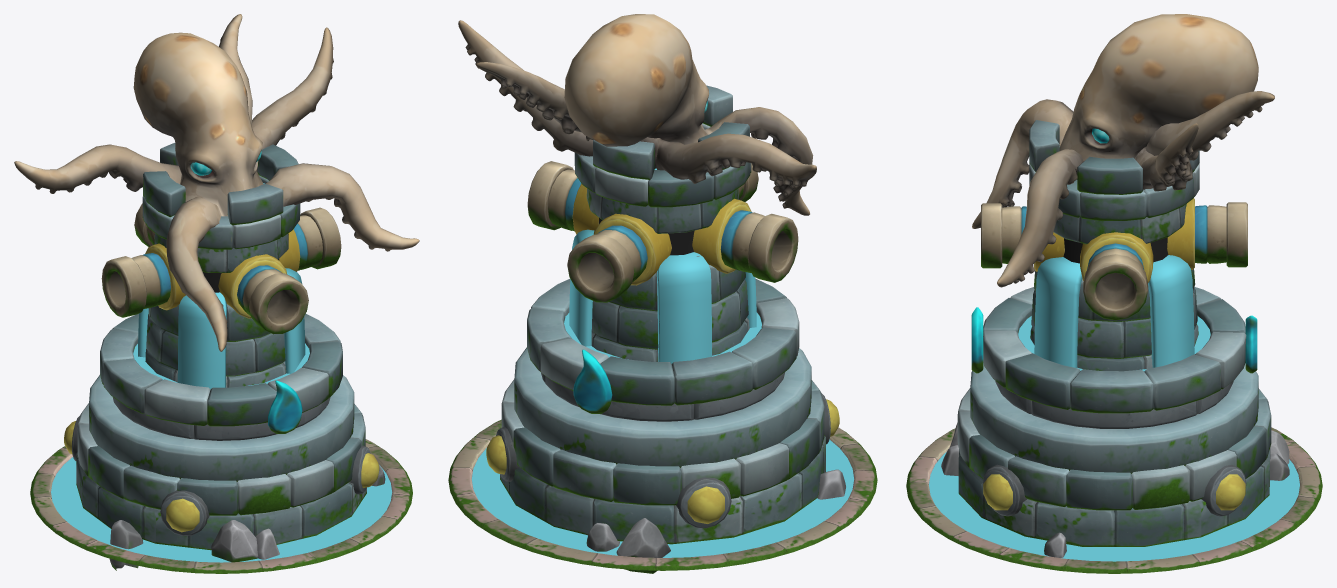
The model's file is SM_TowerDefense_Aqua_Lv3.fbx.
The picture shows the model from 3 angles, left to right: view 1: azimuth 30°, elevation 25°; view 2: azimuth 150°, elevation 25°; view 3: azimuth 270°, elevation 25°; orthographic projection. The views are drawn at different scales.
Visible parts, largest first — view 1: SM_TowerDefense_Aqua_Lv3; view 2: SM_TowerDefense_Aqua_Lv3; view 3: SM_TowerDefense_Aqua_Lv3.
Boxes of the visible parts, left/top/right/bottom form: SM_TowerDefense_Aqua_Lv3: left=14, top=14, right=419, bottom=573; SM_TowerDefense_Aqua_Lv3: left=448, top=14, right=877, bottom=573; SM_TowerDefense_Aqua_Lv3: left=906, top=14, right=1322, bottom=573.
Bounding box in the file's own units: 1129 × 1453 × 1108.
